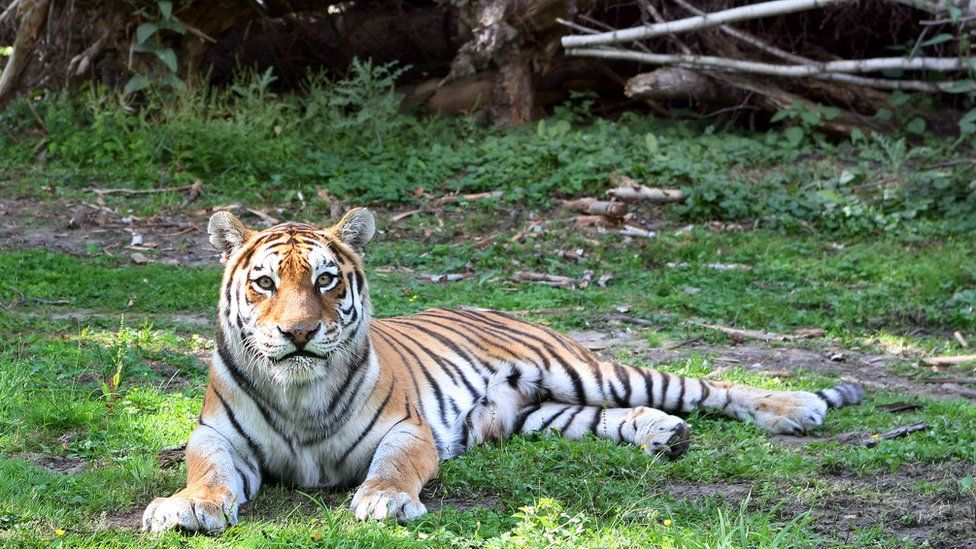Tiger: (165, 178, 768, 545)
